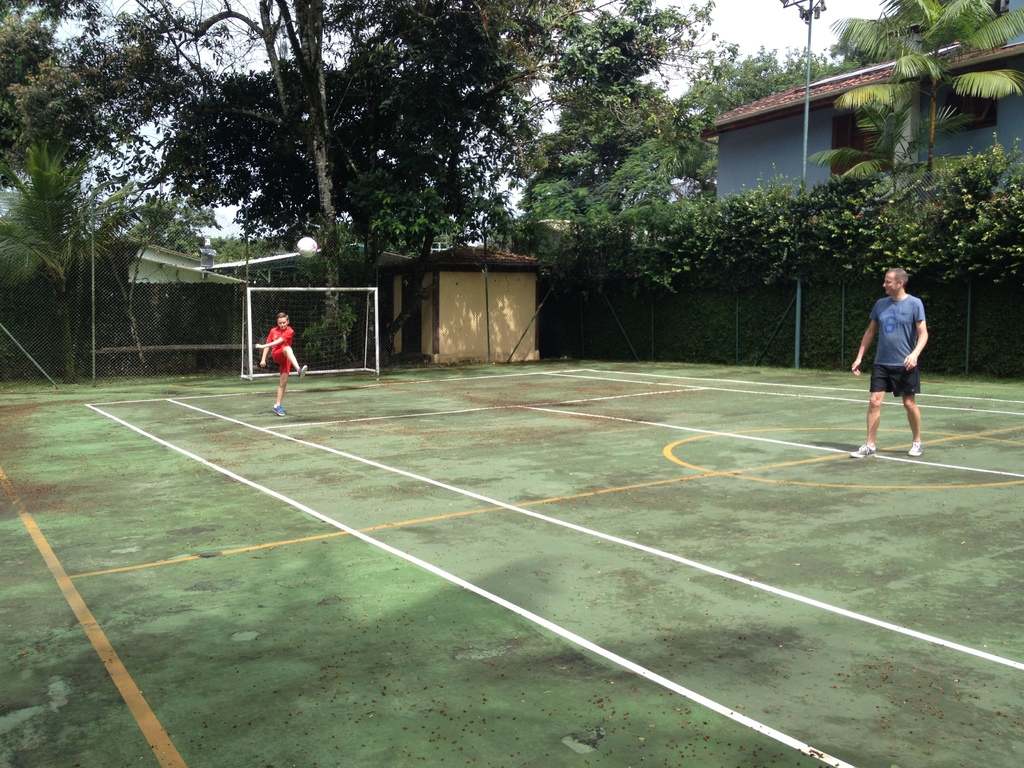Person: (849, 267, 928, 458), (255, 311, 307, 416)
